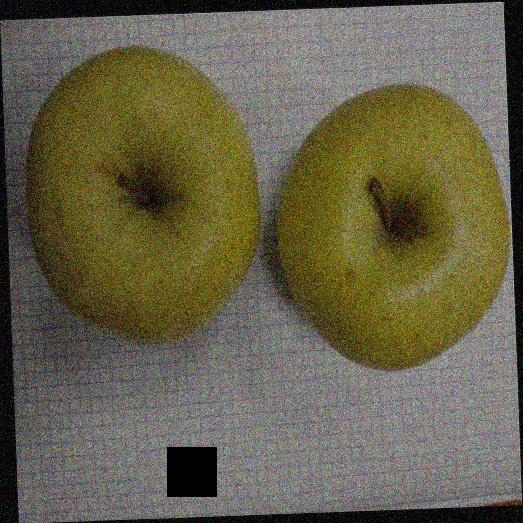green apple: (24, 41, 262, 352), (275, 82, 511, 371)
